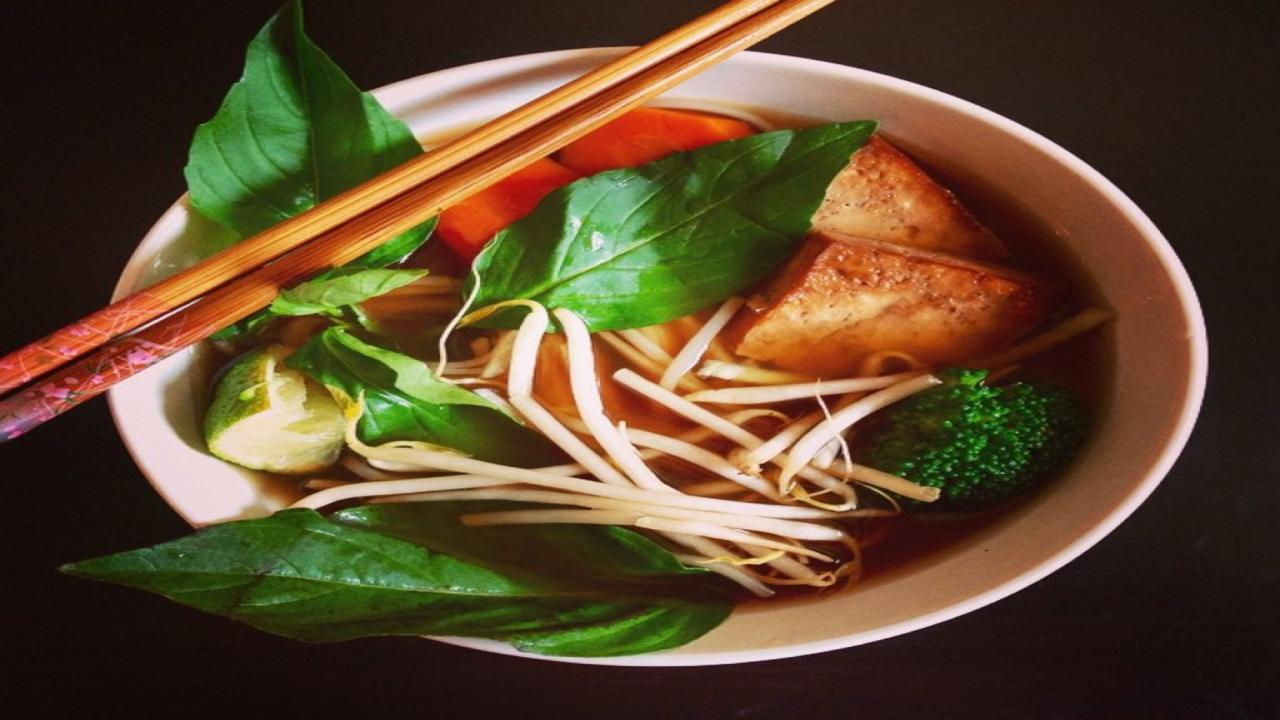chopstick: (0, 1, 832, 439)
